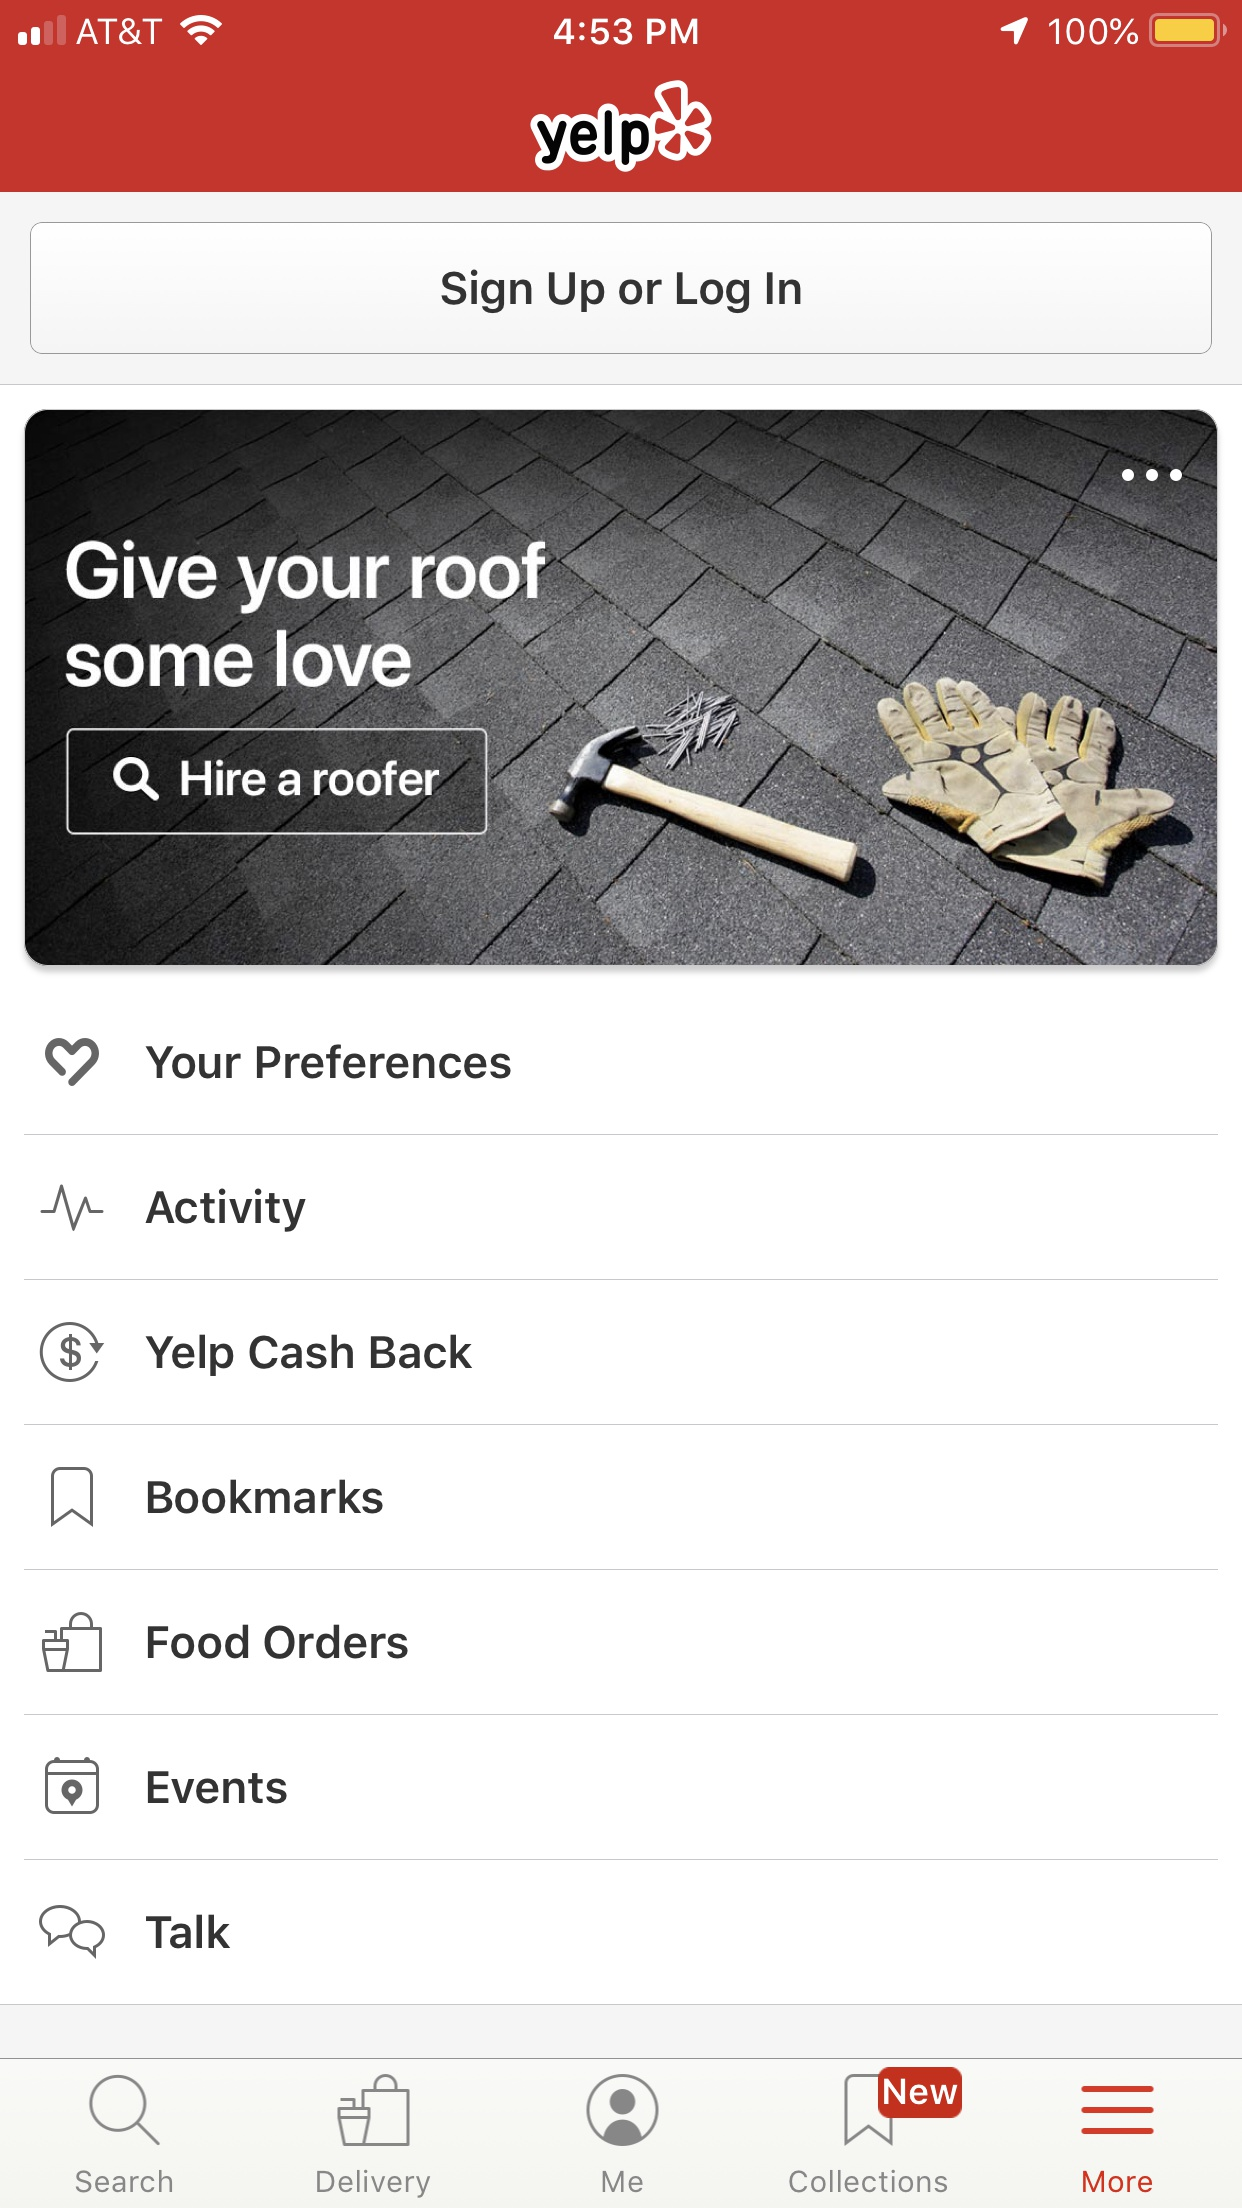EditText: (67, 726, 488, 836)
Icon: (843, 2065, 963, 2147), (337, 2073, 412, 2147), (585, 2073, 660, 2147), (89, 2075, 162, 2146), (39, 1322, 106, 1385), (1080, 2084, 1156, 2137), (42, 1611, 105, 1673), (38, 1905, 108, 1959), (45, 1756, 102, 1815), (39, 1184, 105, 1233), (45, 1037, 102, 1087), (52, 1466, 96, 1529), (114, 757, 161, 804)
Image: (26, 409, 1218, 966), (529, 80, 713, 174)
PageIndicator: (1121, 469, 1183, 482)
Text: (67, 538, 547, 688), (146, 1333, 475, 1377), (146, 1043, 513, 1080), (149, 1623, 409, 1661), (147, 1479, 384, 1515), (146, 1187, 306, 1234), (149, 1770, 290, 1805), (789, 2169, 949, 2193), (315, 2169, 432, 2199), (146, 1914, 232, 1950), (76, 2169, 174, 2194), (1081, 2169, 1153, 2193), (601, 2170, 645, 2193)
TextButton: (30, 223, 1213, 356)
UpperTaskBar: (2, 2, 1242, 49)
